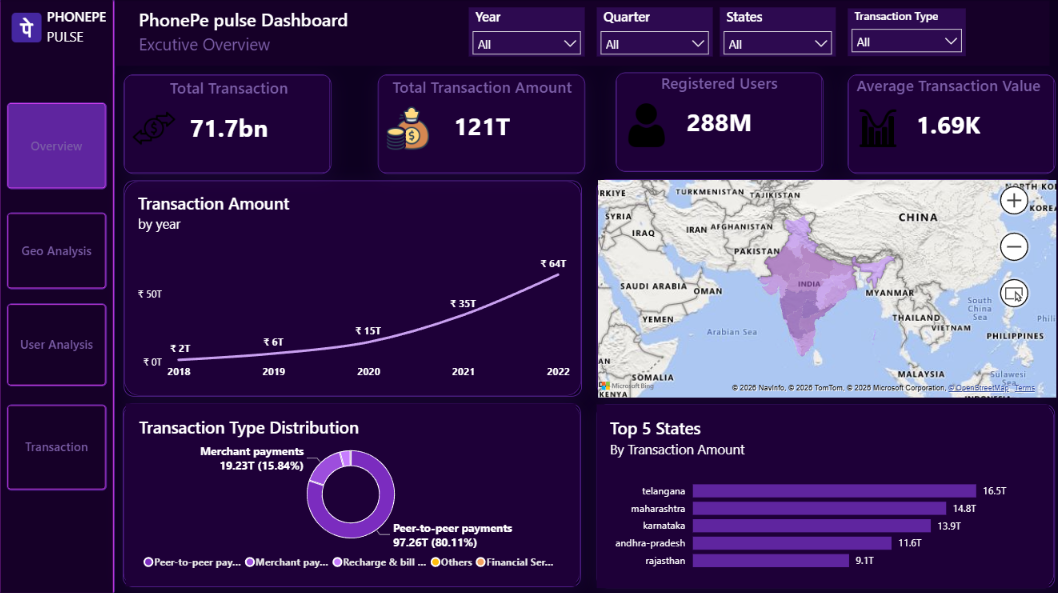

The page's visual inventory and layout, read from the dashboard file:
{"tool":"powerbi","page":{"name":"Overview","canvas":[1280,720],"ordinal":0},"visuals":[{"type":"shape","box":[721.4,490,552.9,221.4],"z":0},{"type":"shape","box":[0,2,140,89],"z":1000},{"type":"shape","box":[0,0,140,720],"z":2000},{"type":"shape","box":[744.4,88.9,250,120],"z":3000},{"type":"actionButton","title":"overview","box":[9.7,125.5,120.6,105],"z":4000},{"type":"shape","title":"PHONEPE ","box":[58,11,78,60],"z":5000},{"type":"cardVisual","title":"Registered Users","fields":{"Data":["Dim_Date.Registered Users"]},"box":[744.4,88.9,250,120],"z":6000},{"type":"actionButton","title":"Geo Analysis","box":[9.7,258.2,120.6,92.9],"z":7000},{"type":"image","box":[755,117,52.9,72.4],"z":8000},{"type":"actionButton","title":"User Analysis","box":[9.7,368,120.6,100.1],"z":9000},{"type":"actionButton","title":"Transaction\n","box":[9.7,489.8,120.6,103.8],"z":11000},{"type":"image","box":[10,0,48,71],"z":14000},{"type":"shape","title":"PhonePe Pulse Dashboard","box":[140,2.2,1127.8,78.9],"z":15000},{"type":"textbox","title":"PhonePe pulse Dashboard","box":[151.1,2.2,447.8,68.9],"z":16000},{"type":"shape","box":[1024.3,91.1,250,120],"z":17000},{"type":"shape","box":[151,219,553,261],"z":18000},{"type":"lineChart","title":"Transaction Amount","fields":{"Category":["aggregated_transaction.year"],"Y":["Sum(aggregated_transaction.amount)"]},"box":[151.4,218.6,552.9,261.4],"z":19000},{"type":"shape","box":[721.1,218.9,553.3,261.1],"z":20000},{"type":"shape","box":[457.8,91.1,250,120],"z":21000},{"type":"filledMap","fields":{"Category":["map_transaction.states"]},"box":[722.7,219.3,552.5,262.5],"z":22000},{"type":"cardVisual","title":"Total Transaction Amount","fields":{"Data":["Dim_Date.Total Amount"]},"box":[457.8,93.3,246.7,116.7],"z":23000},{"type":"shape","box":[150,488.6,552.9,221.4],"z":24000},{"type":"image","box":[468.1,120,51.5,74.4],"z":25000},{"type":"shape","box":[151.1,91.1,250,120],"z":26000},{"type":"donutChart","title":"Transaction Type Distribution","fields":{"Category":["aggregated_transaction.trans_type"],"Y":["Sum(aggregated_transaction.amount)"]},"box":[153,489,543,221],"z":27000},{"type":"clusteredBarChart","title":"Top 5 States","fields":{"Category":["Dim_State.states"],"Y":["Sum(aggregated_transaction.amount)"]},"box":[721.4,490,545.7,221.4],"z":28000},{"type":"cardVisual","title":"Total Transaction","fields":{"Data":["Dim_Date.Total Transactions"]},"box":[161.1,95.6,232.2,111.1],"z":29000},{"type":"slicer","fields":{"Values":["aggregated_transaction.year"]},"box":[556.7,11.1,140,58.9],"z":30000},{"type":"cardVisual","title":"Average Transaction Value ","fields":{"Data":["Dim_Date.Average Transaction Value"]},"box":[1024.4,92.2,243.3,116.7],"z":31000},{"type":"slicer","fields":{"Values":["aggregated_transaction.quarter"]},"box":[721.1,11.1,140,58.9],"z":32000},{"type":"slicer","fields":{"Values":["map_transaction.states"]},"box":[894.4,11.1,140,58.9],"z":33000},{"type":"image","box":[161.4,120,51.5,74.4],"z":34000},{"type":"image","box":[1034.6,120,51.5,74.4],"z":35000},{"type":"slicer","fields":{"Values":["aggregated_transaction.trans_type"]},"box":[1060,12.2,173.3,58.9],"z":36000}]}

Visuals, with their boxes in screenshot pixels (x1, y1, x2, y2), scaled from the page's 1280x720 canvas onto the 1058x593 screenshot:
shape: detection(596, 404, 1053, 586)
shape: detection(0, 2, 116, 75)
shape: detection(0, 0, 116, 592)
shape: detection(615, 73, 822, 172)
"overview" actionButton: detection(8, 103, 108, 190)
"PHONEPE " shape: detection(48, 9, 112, 58)
"Registered Users" cardVisual: detection(615, 73, 822, 172)
"Geo Analysis" actionButton: detection(8, 213, 108, 289)
image: detection(624, 96, 668, 156)
"User Analysis" actionButton: detection(8, 303, 108, 386)
"Transaction
" actionButton: detection(8, 403, 108, 489)
image: detection(8, 0, 48, 58)
"PhonePe Pulse Dashboard" shape: detection(116, 2, 1048, 67)
"PhonePe pulse Dashboard" textbox: detection(125, 2, 495, 59)
shape: detection(847, 75, 1053, 174)
shape: detection(125, 180, 582, 395)
"Transaction Amount" lineChart: detection(125, 180, 582, 395)
shape: detection(596, 180, 1053, 395)
shape: detection(378, 75, 585, 174)
filledMap - map_transaction.states: detection(597, 181, 1054, 397)
"Total Transaction Amount" cardVisual: detection(378, 77, 582, 173)
shape: detection(124, 402, 581, 585)
image: detection(387, 99, 429, 160)
shape: detection(125, 75, 332, 174)
"Transaction Type Distribution" donutChart: detection(126, 403, 575, 585)
"Top 5 States" clusteredBarChart: detection(596, 404, 1047, 586)
"Total Transaction" cardVisual: detection(133, 79, 325, 170)
slicer - aggregated_transaction.year: detection(460, 9, 576, 58)
"Average Transaction Value " cardVisual: detection(847, 76, 1048, 172)
slicer - aggregated_transaction.quarter: detection(596, 9, 712, 58)
slicer - map_transaction.states: detection(739, 9, 855, 58)
image: detection(133, 99, 176, 160)
image: detection(855, 99, 898, 160)
slicer - aggregated_transaction.trans_type: detection(876, 10, 1019, 59)
